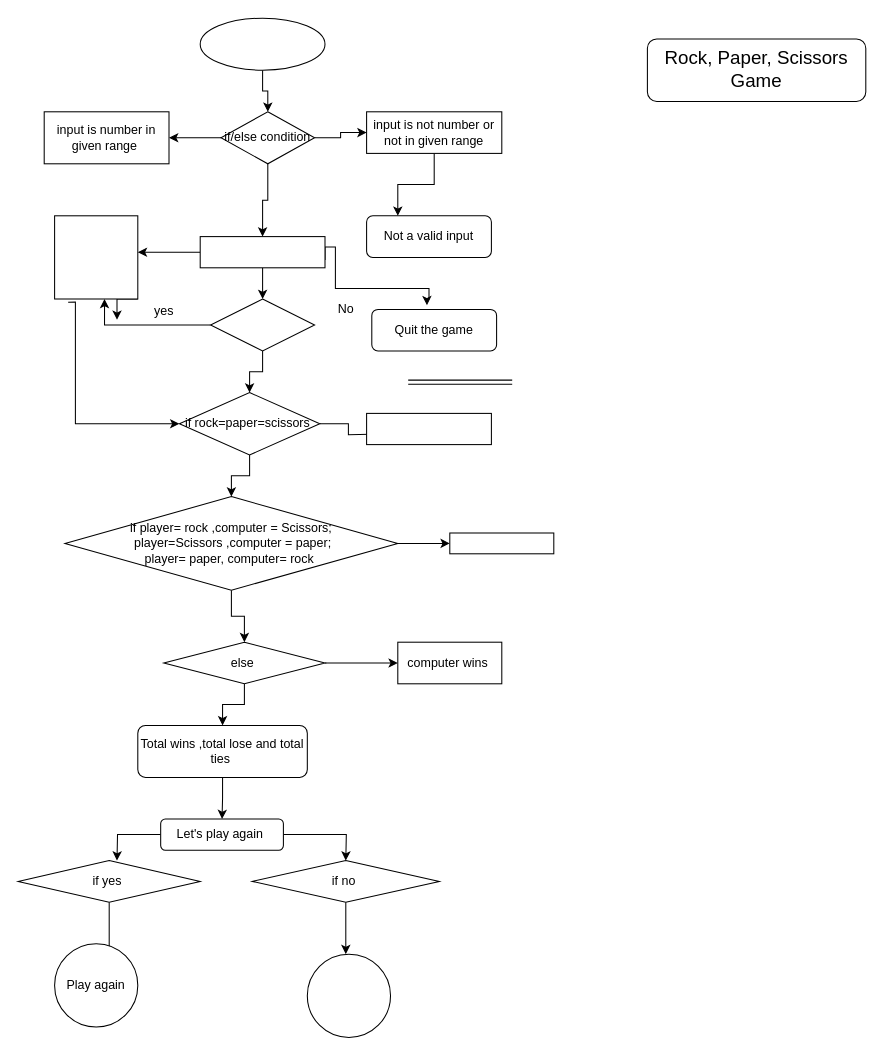
Some shapes in this 884 by 1056 pixel diagram are drawn without their labels. Each missing label, with the box of its shape:
Choice to be selected by players 1 . Rock, =1, Paper =2, Scissors=3: (54, 215, 138, 299)
for/while condition: (210, 298, 315, 351)
How many rounds player1 wants to play?: (199, 17, 325, 70)
it's a tie: (366, 412, 491, 445)
Number of rounds to play: (199, 236, 325, 268)
player1 wins: (449, 532, 554, 554)
Thanks message and declare winner: (306, 953, 391, 1037)
